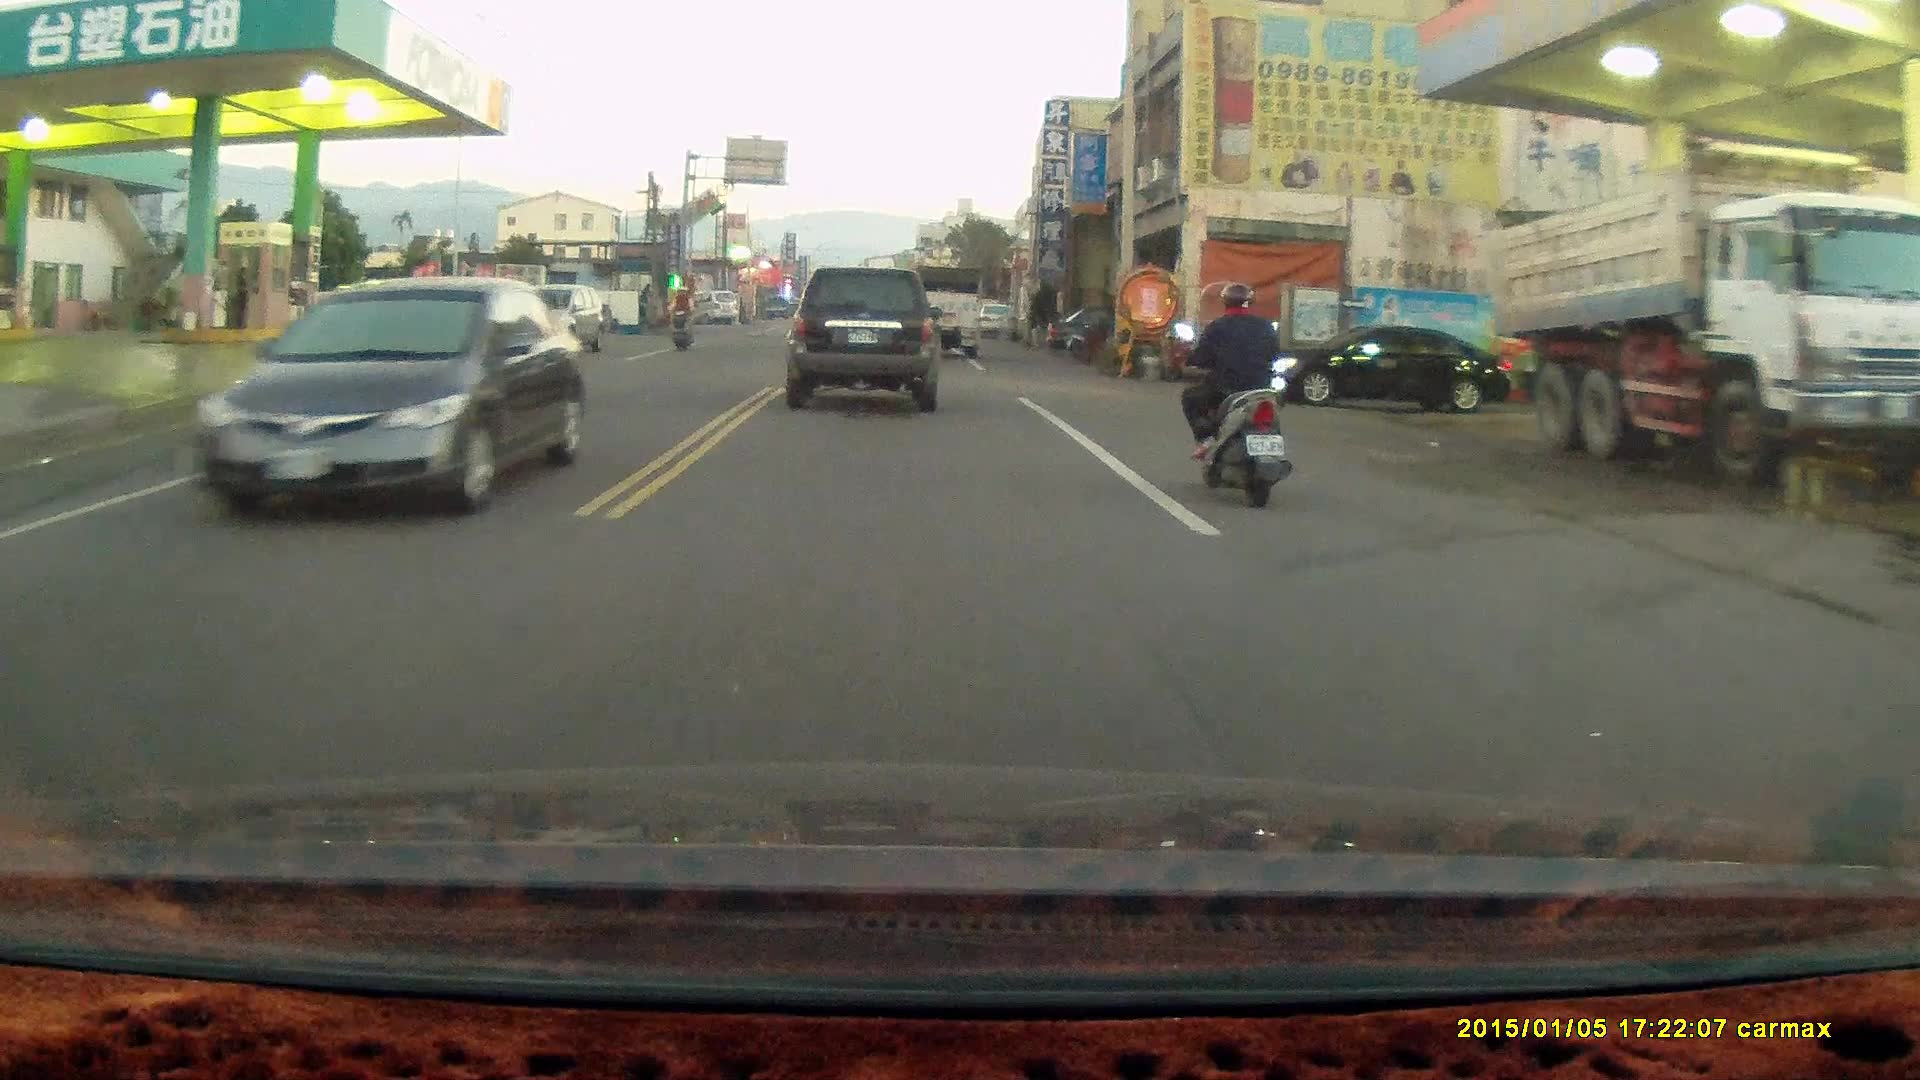rider: (1172, 276, 1293, 510), (663, 283, 693, 351)
vehicle: (1486, 138, 1918, 479), (200, 277, 587, 529), (787, 264, 942, 415), (1282, 324, 1512, 414), (490, 279, 605, 363), (908, 266, 985, 358)
